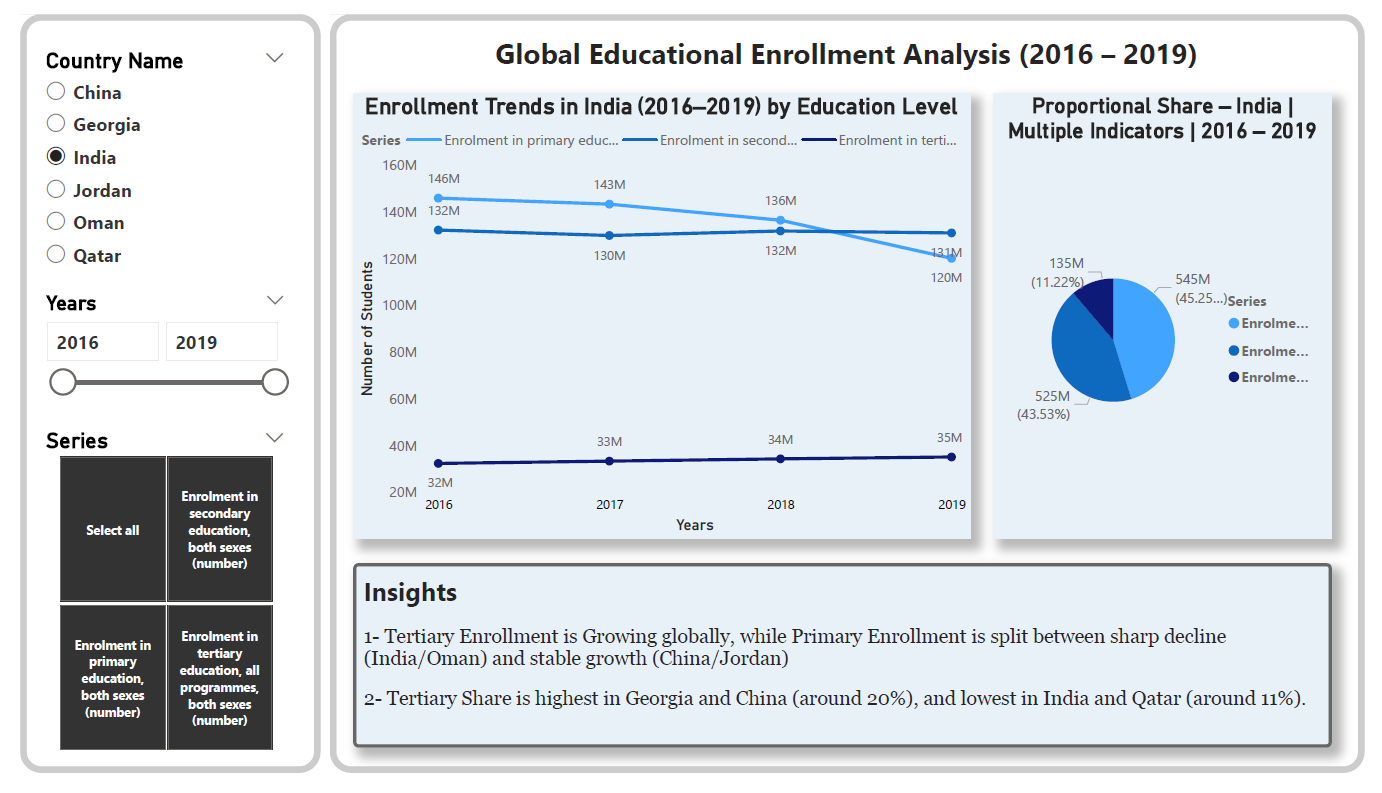

Layout of this report page (visuals, bound fields, positions):
{"tool":"powerbi","page":{"name":"Detailed Analysis","canvas":[1280,720],"ordinal":1},"visuals":[{"type":"shape","box":[293.8,0,982.1,720],"z":0},{"type":"shape","box":[0,0,285.4,720.4],"z":1000},{"type":"pieChart","fields":{"Y":["Sum(Data.Number Of Students)"],"Category":["Data.Series"]},"box":[923.5,75.5,321.1,422.6],"z":2000},{"type":"slicer","fields":{"Values":["Data.Years"]},"box":[12.3,258,251.1,166],"z":2500},{"type":"slicer","fields":{"Values":["Data.Series"]},"box":[12.3,388.3,251.1,317],"z":3000},{"type":"slicer","fields":{"Values":["Data.Country Name"]},"box":[12.3,27.4,251.1,230.5],"z":5000},{"type":"lineChart","fields":{"Category":["Data.Years"],"Y":["Sum(Data.Number Of Students)"],"Series":["Data.Series"]},"box":[315.6,75.5,585.9,422.6],"z":6000},{"type":"textbox","box":[315.4,13,938.9,50.4],"z":7000},{"type":"textbox","box":[315.6,521.4,929,174.3],"z":8000}]}

Visuals, with their boxes in screenshot pixels (x1, y1, x2, y2), scaled from the page's 1280x720 canvas onto the 1382x793 screenshot:
shape: {"x1": 317, "y1": 0, "x2": 1378, "y2": 792}
shape: {"x1": 0, "y1": 0, "x2": 308, "y2": 792}
pieChart - Sum(Data.Number Of Students) x Data.Series: {"x1": 997, "y1": 83, "x2": 1344, "y2": 549}
slicer - Data.Years: {"x1": 13, "y1": 284, "x2": 284, "y2": 467}
slicer - Data.Series: {"x1": 13, "y1": 428, "x2": 284, "y2": 777}
slicer - Data.Country Name: {"x1": 13, "y1": 30, "x2": 284, "y2": 284}
lineChart - Data.Years x Sum(Data.Number Of Students): {"x1": 341, "y1": 83, "x2": 973, "y2": 549}
textbox: {"x1": 341, "y1": 14, "x2": 1354, "y2": 70}
textbox: {"x1": 341, "y1": 574, "x2": 1344, "y2": 766}
